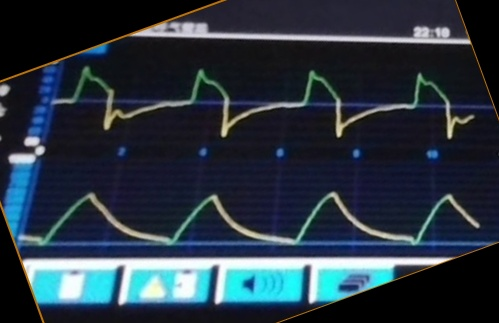Premature_cycling Flow: (67, 59, 474, 142)
Premature_cycling Volume: (36, 182, 476, 248)
